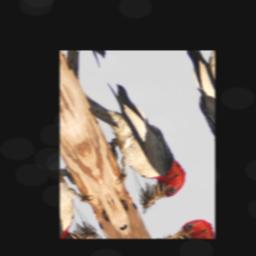Woodpecker: (74, 66, 191, 219)
